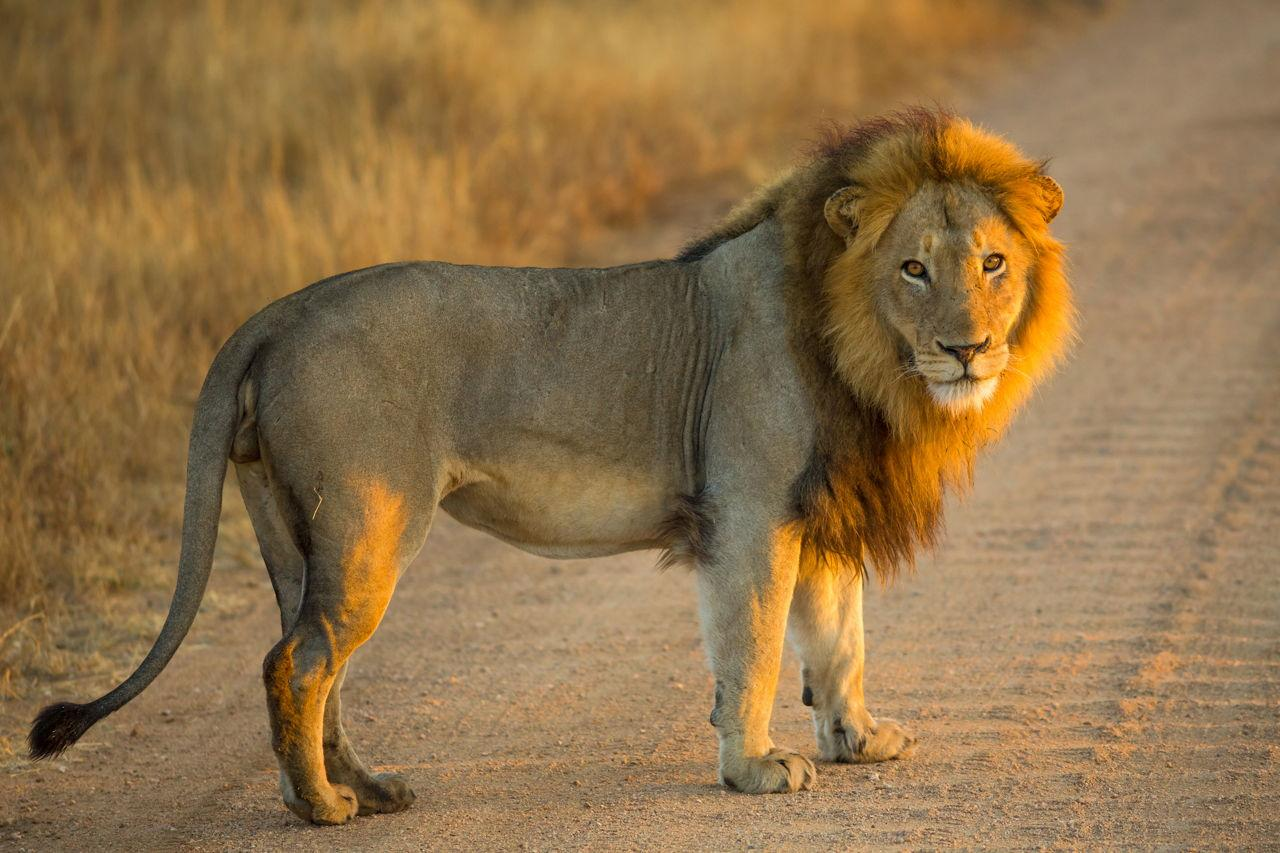lions: (0, 71, 1263, 821)
